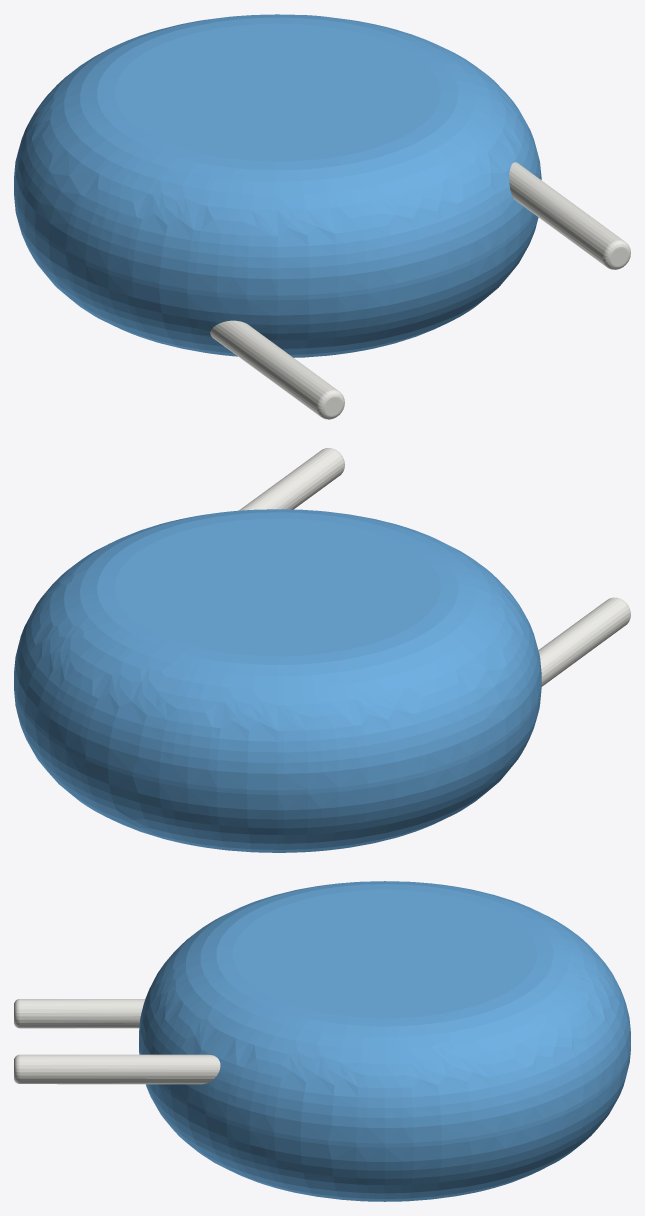
Rendered from RV_Disc_D12mm_W4.7mm_P7.5mm.glb.
The picture shows the model from 3 angles, top to bottom: view 1: azimuth 30°, elevation 25°; view 2: azimuth 150°, elevation 25°; view 3: azimuth 270°, elevation 25°; orthographic projection. The views are drawn at different scales.
Parts seen in each view (by area): view 1: Shape_IndexedFaceSet.001, Shape_IndexedFaceSet.003, Shape_IndexedFaceSet.002, Shape_IndexedFaceSet.006, Shape_IndexedFaceSet.004, Shape_IndexedFaceSet; view 2: Shape_IndexedFaceSet.001, Shape_IndexedFaceSet.003, Shape_IndexedFaceSet.002, Shape_IndexedFaceSet.006, Shape_IndexedFaceSet.004, Shape_IndexedFaceSet; view 3: Shape_IndexedFaceSet.001, Shape_IndexedFaceSet.003, Shape_IndexedFaceSet.002, Shape_IndexedFaceSet.004, Shape_IndexedFaceSet.006, Shape_IndexedFaceSet.
Boxes of the visible parts, left/top/right/bottom form: Shape_IndexedFaceSet.001: left=14, top=14, right=541, bottom=295; Shape_IndexedFaceSet.003: left=114, top=23, right=440, bottom=161; Shape_IndexedFaceSet.002: left=14, top=196, right=538, bottom=357; Shape_IndexedFaceSet.006: left=210, top=320, right=337, bottom=415; Shape_IndexedFaceSet.004: left=509, top=162, right=623, bottom=266; Shape_IndexedFaceSet: left=14, top=191, right=534, bottom=300; Shape_IndexedFaceSet.001: left=14, top=509, right=541, bottom=790; Shape_IndexedFaceSet.003: left=114, top=518, right=440, bottom=656; Shape_IndexedFaceSet.002: left=14, top=690, right=541, bottom=852; Shape_IndexedFaceSet.006: left=538, top=598, right=629, bottom=686; Shape_IndexedFaceSet.004: left=239, top=448, right=343, bottom=510; Shape_IndexedFaceSet: left=14, top=685, right=541, bottom=794; Shape_IndexedFaceSet.001: left=139, top=881, right=630, bottom=1143; Shape_IndexedFaceSet.003: left=232, top=889, right=537, bottom=1018; Shape_IndexedFaceSet.002: left=139, top=1050, right=630, bottom=1201; Shape_IndexedFaceSet.004: left=20, top=1054, right=220, bottom=1084; Shape_IndexedFaceSet.006: left=20, top=999, right=145, bottom=1028; Shape_IndexedFaceSet: left=139, top=1046, right=630, bottom=1147.
Bounding box in the file's own units: 4.72 × 1.85 × 5.91.
